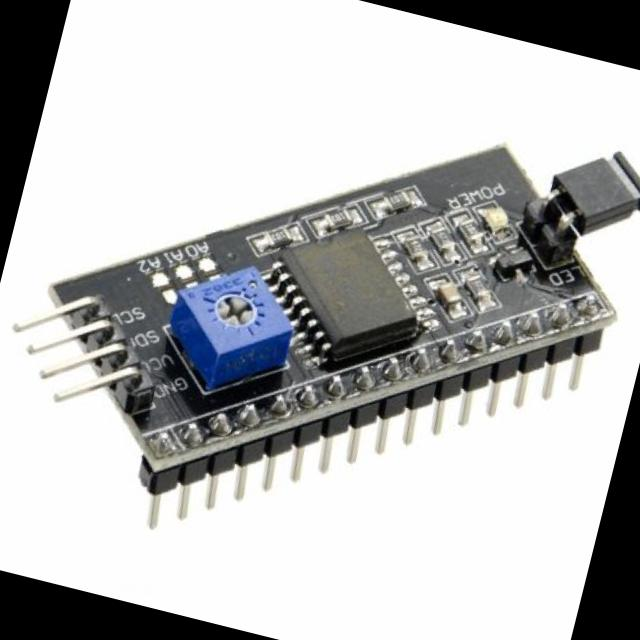IC: (260, 208, 428, 359)
LED: (479, 198, 514, 238)
capacitor: (431, 278, 466, 311)
connector: (138, 317, 610, 538), (0, 275, 172, 427), (511, 127, 640, 275)
potentiometer: (160, 247, 304, 391)
resistor: (392, 228, 433, 266), (254, 218, 296, 252), (458, 267, 496, 304), (311, 201, 356, 232), (452, 214, 489, 249), (423, 223, 459, 256), (378, 185, 413, 216)
transistor: (488, 238, 540, 288)
